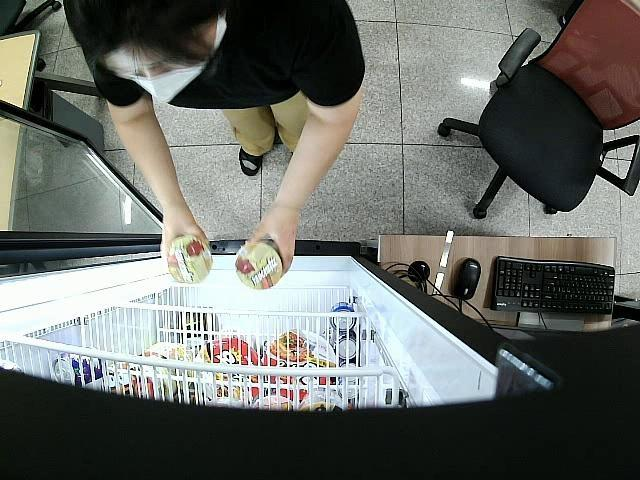04_chapagetti_S: (235, 240, 282, 288), (166, 234, 212, 282)
